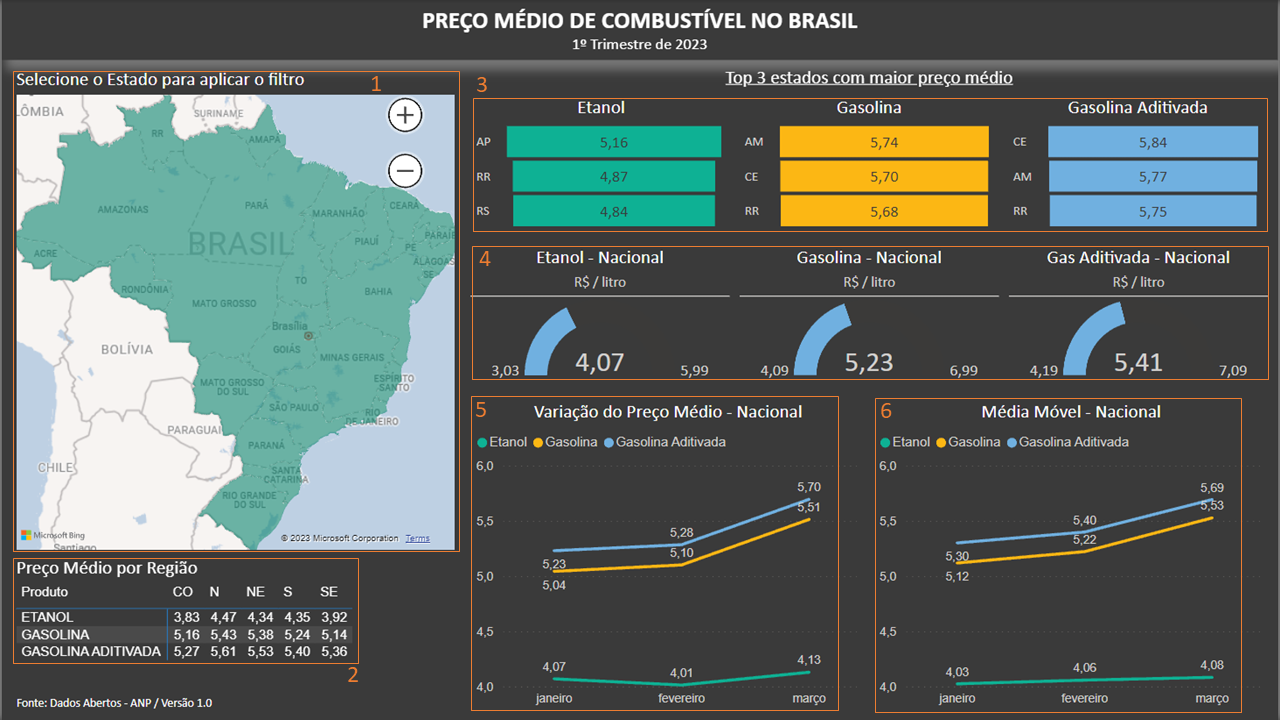

This screenshot's page, from the dashboard's own definition file:
{"tool":"powerbi","page":{"name":"Preço Médio","canvas":[1280,720],"ordinal":0},"visuals":[{"type":"lineChart","fields":{"Category":["preco_tratado.Data_Coleta.Variation.Hierarquia de datas.Mês","preco_tratado.Data_Coleta.Variation.Hierarquia de datas.Dia"],"Y":["Medidas.MediaNacEtanol","Medidas.MediaNacGasComum","Medidas.MediaNacGasAdit"]},"box":[470.9,395,395,320],"z":0},{"type":"lineChart","fields":{"Y":["Medidas.Média móvel de MediaNacEtanol","Medidas.Média móvel de MediaNacGasComum","Medidas.Média móvel de MediaNacGasAdit"],"Category":["preco_tratado.Data_Coleta.Variation.Hierarquia de datas.Mês","preco_tratado.Data_Coleta.Variation.Hierarquia de datas.Dia"]},"box":[874.9,395,395.1,320],"z":1000},{"type":"filledMap","title":"Selecione o Estado para aplicar o filtro","fields":{"Category":["preco_tratado.Estado"]},"box":[10,65,450,490],"z":2000},{"type":"pivotTable","fields":{"Rows":["preco_tratado.Produto"],"Columns":["preco_tratado.Regiao"],"Values":["Medidas.MediaValorVenda"]},"box":[10,554.7,450,123.7],"z":3000},{"type":"funnel","title":"Gasolina ","fields":{"Category":["TOPMediaGas.Estado"],"Y":["Avg(TOPMediaGas.GAS)"]},"box":[740.2,95,260,140.1],"z":4000},{"type":"textbox","box":[0,0,1280,60],"z":5000},{"type":"funnel","title":"Gasolina Aditivada","fields":{"Category":["TOPMediaGasAdit.Estado"],"Y":["Avg(TOPMediaGasAdit.GAS_ADIT)"]},"box":[1009.6,95,260.7,140.1],"z":6000},{"type":"funnel","title":"Etanol","fields":{"Category":["TOPMediaEtanol.Estado"],"Y":["Avg(TOPMediaEtanol.ETANOL)"]},"box":[470.8,95,260.7,140.1],"z":7000},{"type":"textbox","title":"Top 3 estados com maior preço médio","box":[470.2,65,800.1,30],"z":8000},{"type":"textbox","box":[10,690,225.5,25.9],"z":9000},{"type":"textbox","box":[470,245.1,260,52],"z":10000},{"type":"gauge","fields":{"Y":["Medidas.MediaNacEtanol"],"MinValue":["Medidas.MinMediaNacEtanol"],"MaxValue":["Medidas.MaxMediaNacEtanol"]},"box":[470,297.6,259.7,87.5],"z":11000},{"type":"textbox","box":[740,245,260,52],"z":12000},{"type":"gauge","fields":{"Y":["Medidas.MediaNacGasComum"],"MinValue":["Medidas.MinMediaNacGas"],"MaxValue":["Medidas.MaxMediaNacGas"]},"box":[740,297,259.7,87.5],"z":13000},{"type":"textbox","box":[1010.7,245,260,52],"z":14000},{"type":"gauge","fields":{"Y":["Medidas.MediaNacGasAdit"],"MinValue":["Medidas.MinMediaNacGasAdt"],"MaxValue":["Medidas.MaxMediaNacGasAdt"]},"box":[1010.7,297,259.7,87.5],"z":15000}]}

Visuals, with their boxes in screenshot pixels (x1, y1, x2, y2), scaled from the page's 1280x720 canvas onto the 1280x720 screenshot:
lineChart - preco_tratado.Data_Coleta.Variation.Hierarquia de datas.Mês x preco_tratado.Data_Coleta.Variation.Hierarquia de datas.Dia: <box>471,395,866,715</box>
lineChart - Medidas.Média móvel de MediaNacEtanol x Medidas.Média móvel de MediaNacGasComum: <box>875,395,1270,715</box>
"Selecione o Estado para aplicar o filtro" filledMap: <box>10,65,460,555</box>
pivotTable - preco_tratado.Produto x preco_tratado.Regiao: <box>10,555,460,678</box>
"Gasolina " funnel: <box>740,95,1000,235</box>
textbox: <box>0,0,1279,60</box>
"Gasolina Aditivada" funnel: <box>1010,95,1270,235</box>
"Etanol" funnel: <box>471,95,732,235</box>
"Top 3 estados com maior preço médio" textbox: <box>470,65,1270,95</box>
textbox: <box>10,690,236,716</box>
textbox: <box>470,245,730,297</box>
gauge - Medidas.MediaNacEtanol x Medidas.MinMediaNacEtanol: <box>470,298,730,385</box>
textbox: <box>740,245,1000,297</box>
gauge - Medidas.MediaNacGasComum x Medidas.MinMediaNacGas: <box>740,297,1000,384</box>
textbox: <box>1011,245,1271,297</box>
gauge - Medidas.MediaNacGasAdit x Medidas.MinMediaNacGasAdt: <box>1011,297,1270,384</box>
